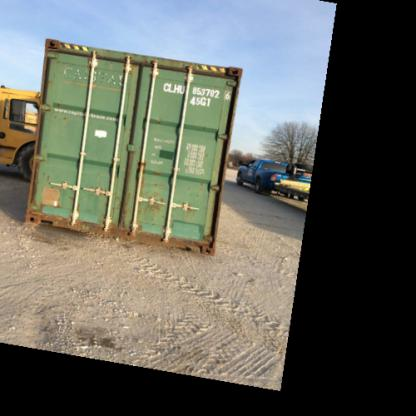Damage: (50, 62, 126, 88), (37, 175, 74, 213), (137, 188, 165, 226), (46, 110, 78, 127), (217, 64, 237, 82), (148, 112, 167, 126)
